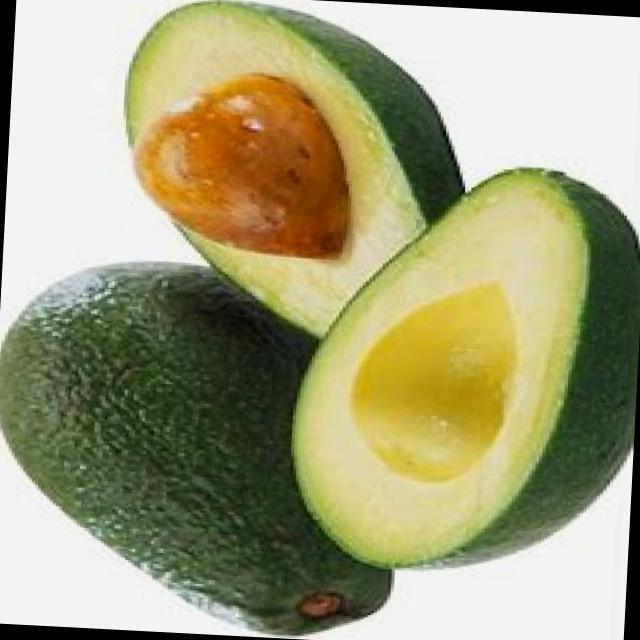avocado: (0, 250, 415, 640), (281, 157, 640, 575), (106, 0, 473, 344)
